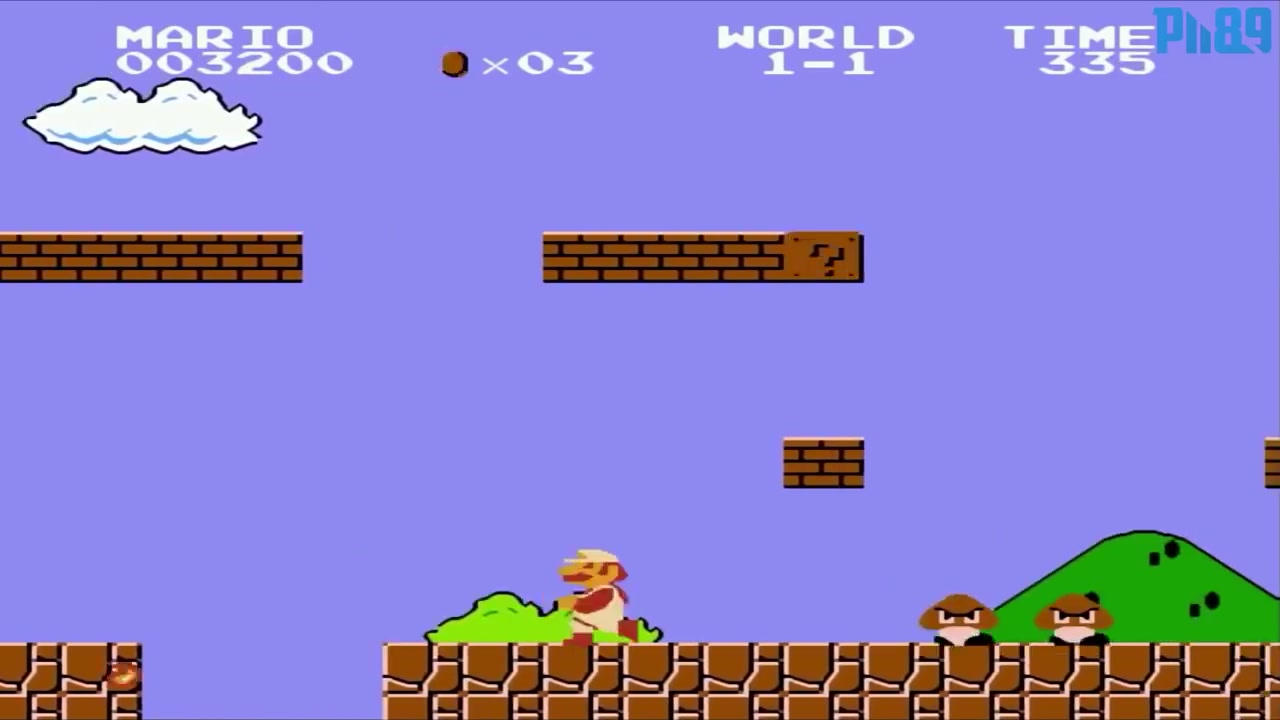mario: (545, 533, 641, 661)
